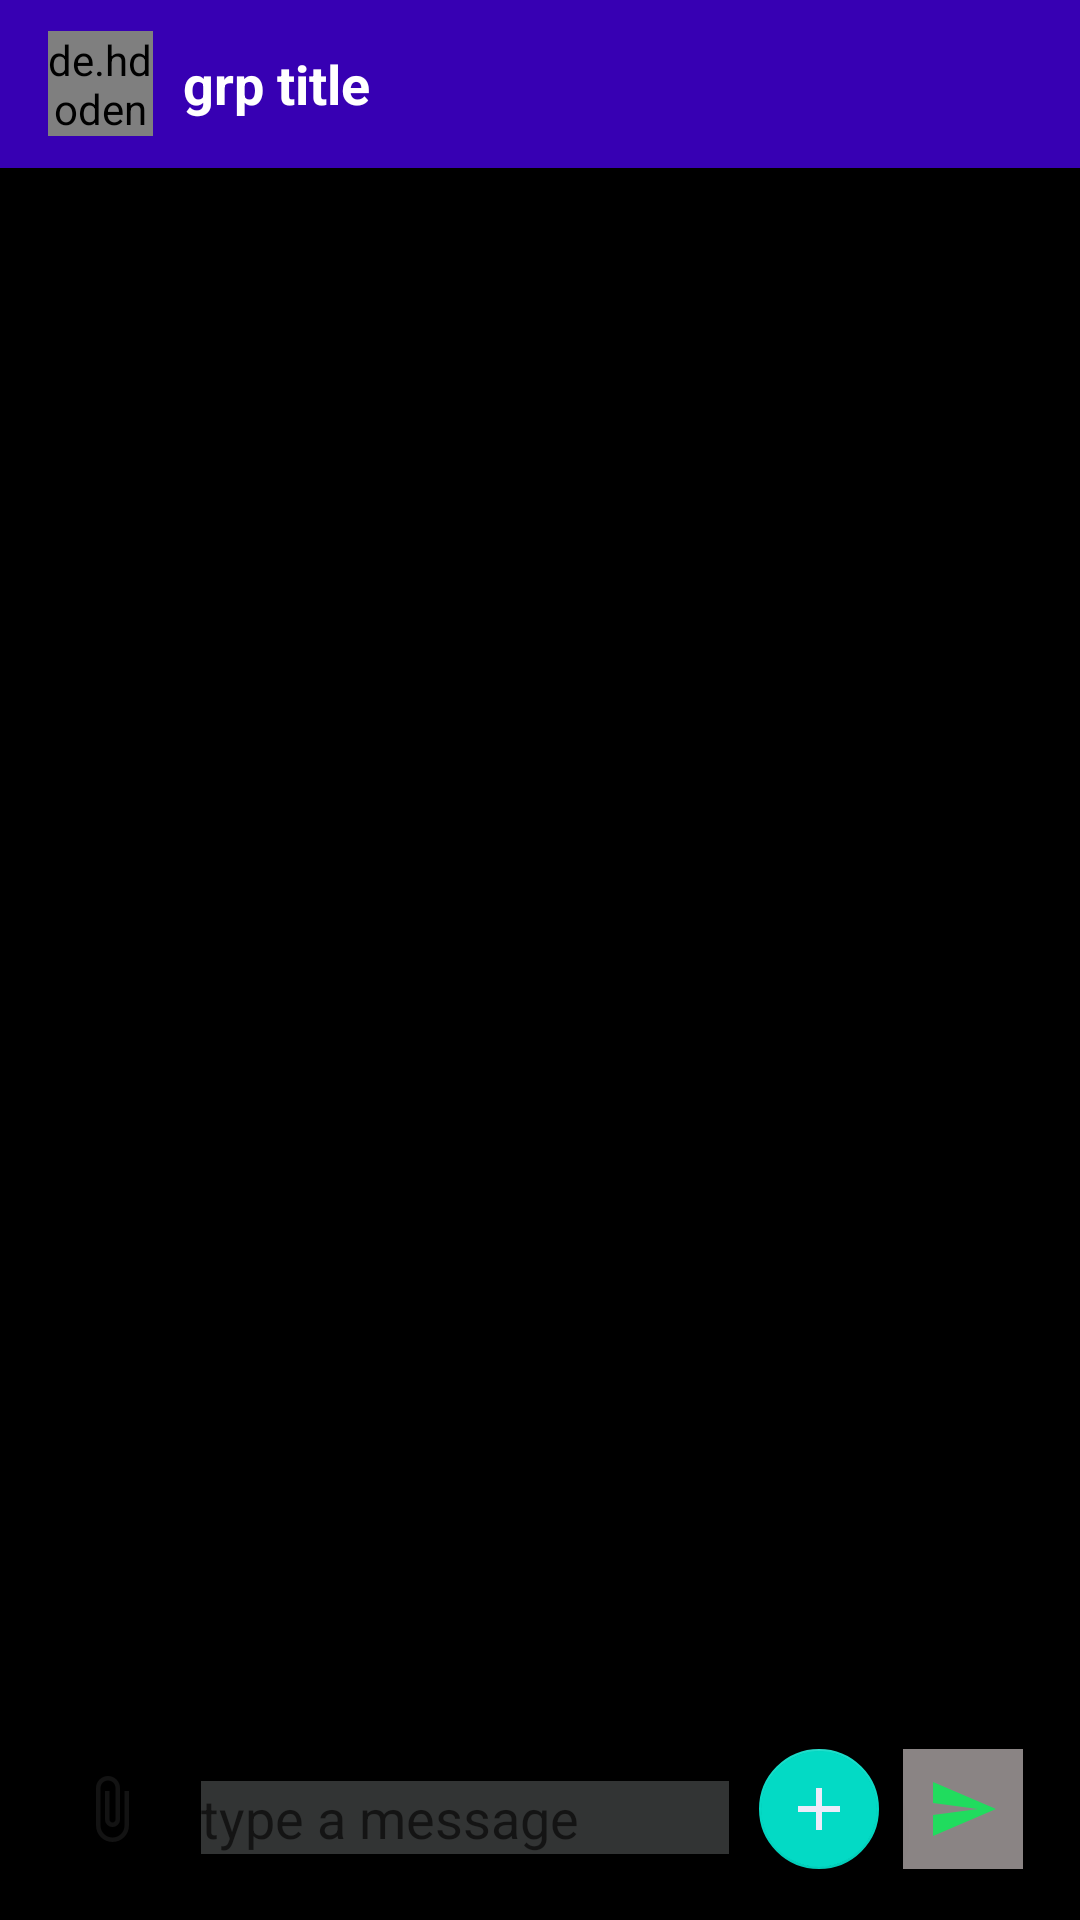

Icons on this 1080w x 1920h Android screen, each with its box as (x1=x1, y1=y1, x2=x2, y2=y2):
add: (x1=759, y1=1749, x2=879, y2=1869)
send: (x1=903, y1=1749, x2=1023, y2=1869)
